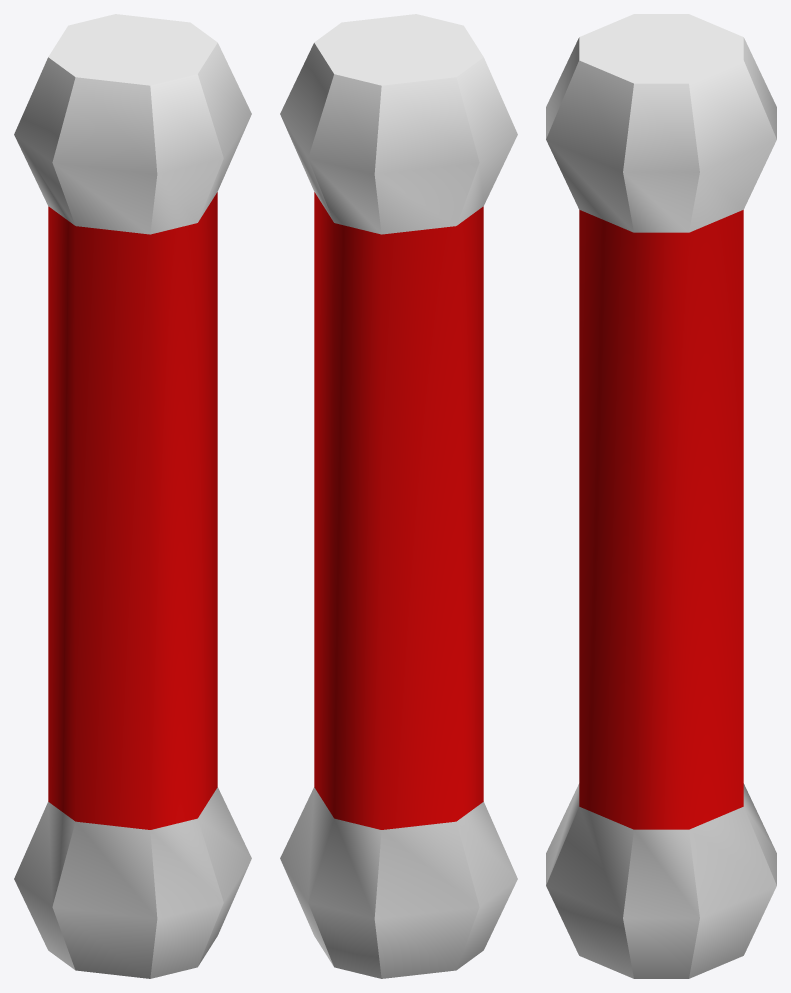
The model's file is racket.fbx.
The picture shows the model from 3 angles, left to right: view 1: azimuth 30°, elevation 25°; view 2: azimuth 150°, elevation 25°; view 3: azimuth 270°, elevation 25°; orthographic projection.
Visible parts, largest first — view 1: pCube1; view 2: pCube1; view 3: pCube1.
Boxes of the visible parts, box(x1,y1,x2,y2) form: pCube1: box(14, 14, 251, 978); pCube1: box(280, 14, 517, 978); pCube1: box(546, 14, 776, 978).
Bounding box in the file's own units: 0.7013 × 3 × 0.7013.
Materials: 1 (1 with a texture image).
